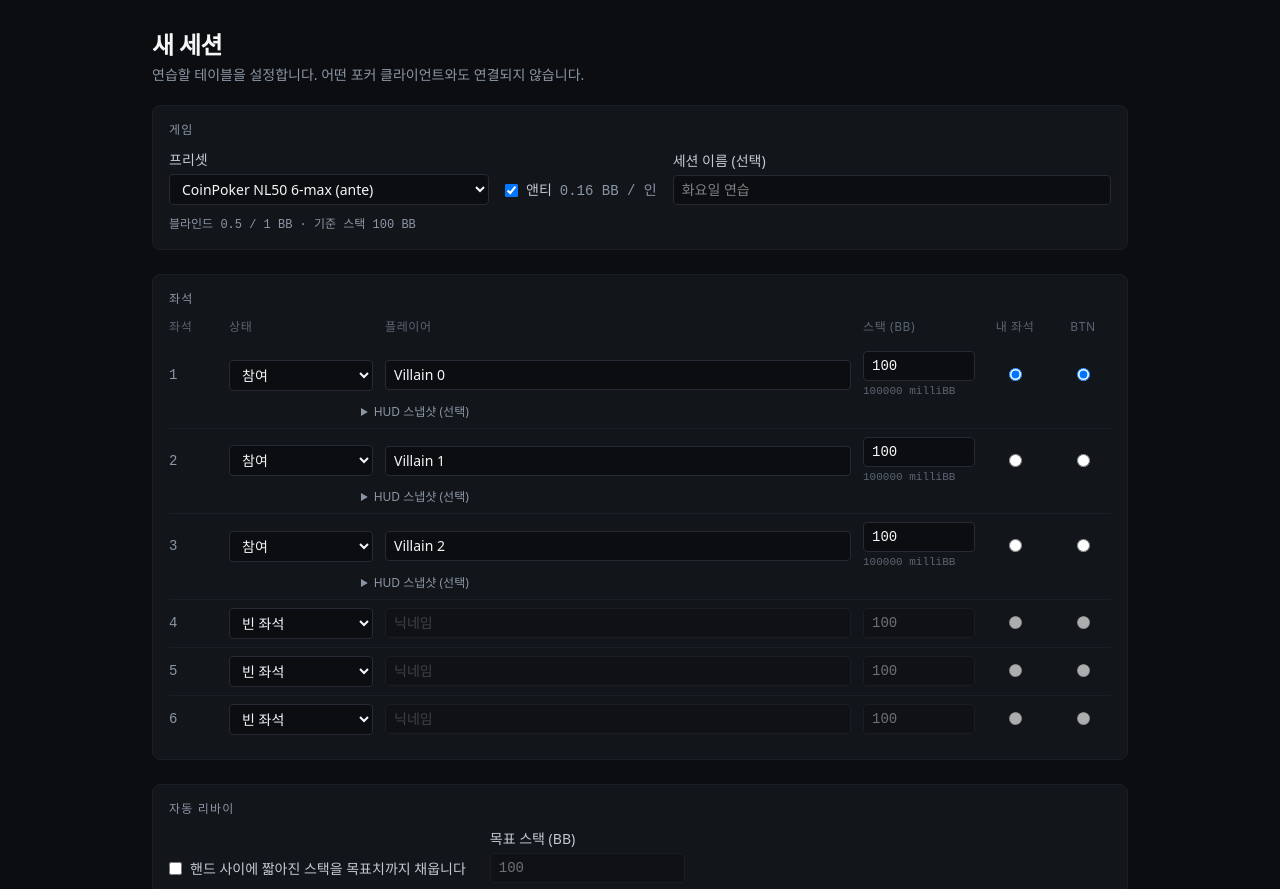
it: SessionSetupForm › surfaces the ENGINE's verdict when the table cannot deal a hand
The width and height of the screenshot is (1280, 889).
Step 1. Select "빈 좌석" in the dropdown named "좌석 2 상태" → point(301, 461), box 229,445 -> 373,476
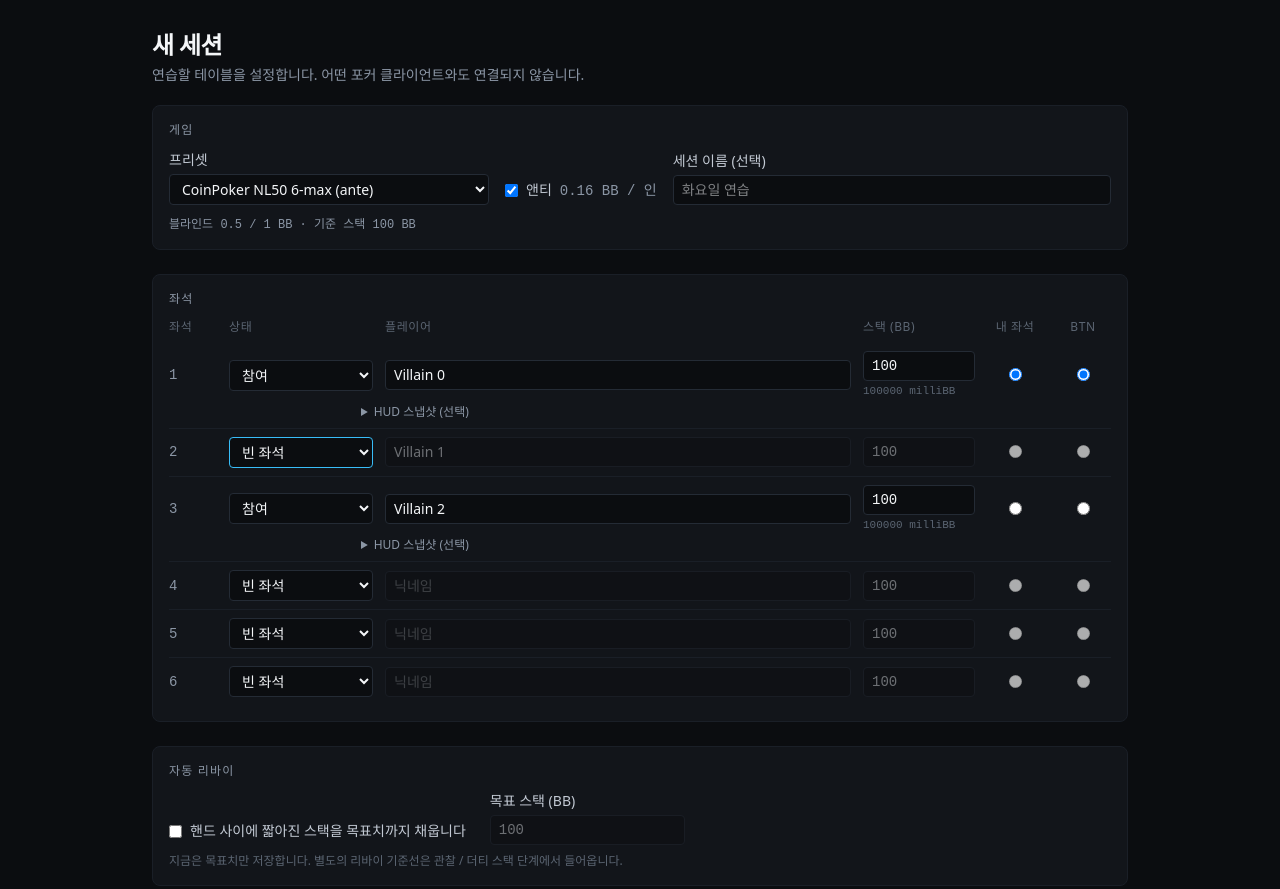
Step 2. Select "빈 좌석" in the dropdown named "좌석 3 상태" → point(301, 509), box 229,493 -> 373,524
(page scrolled)
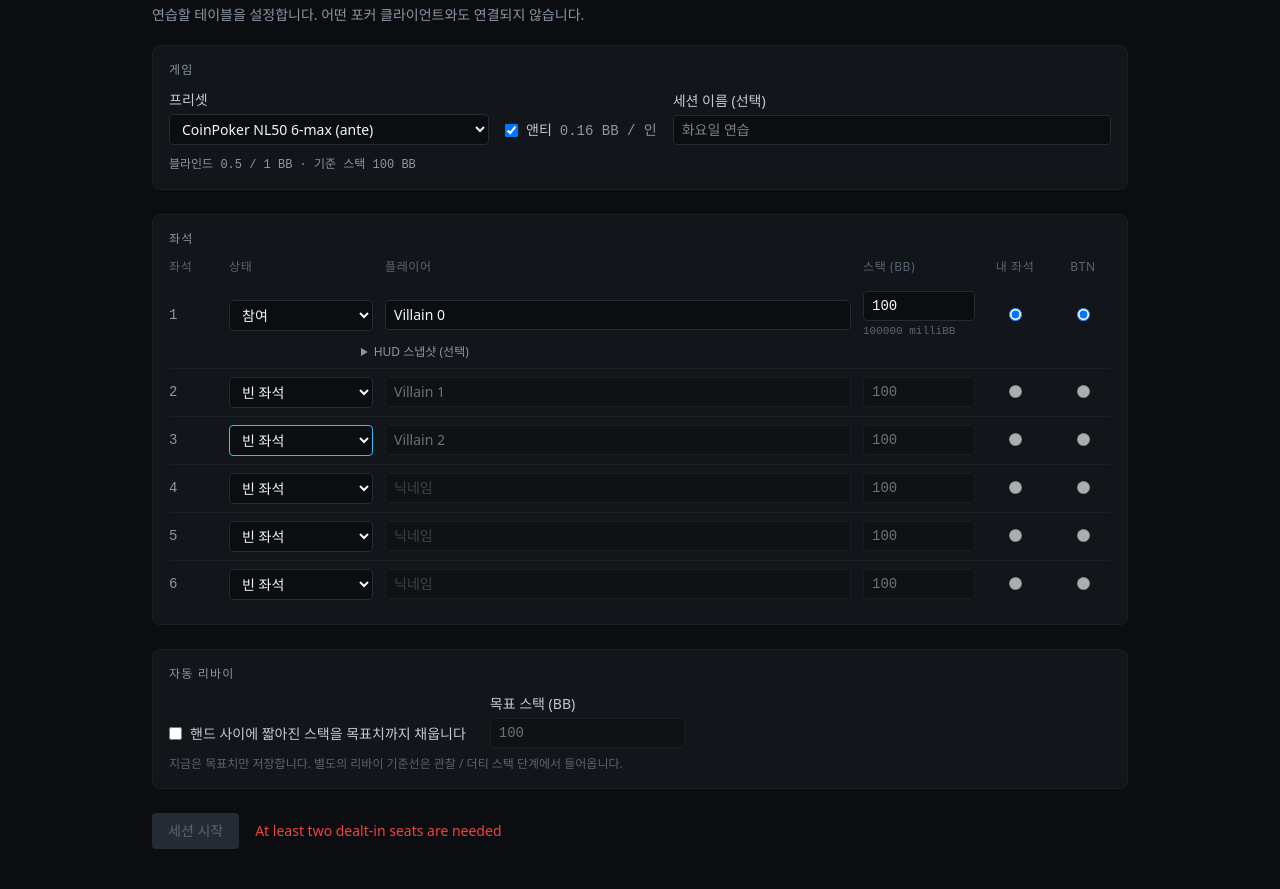
Expected: the button "세션 시작" is disabled, 152,812 -> 239,848
Expected: the text "At least two dealt-in seats are needed" is shown, 255,820 -> 502,840
